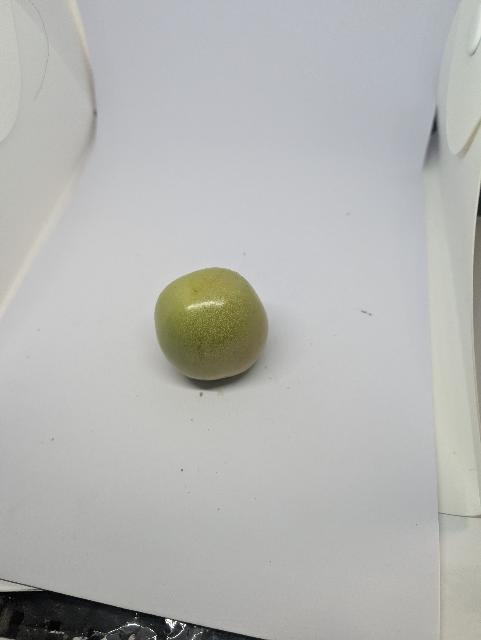green: (150, 265, 272, 385)
